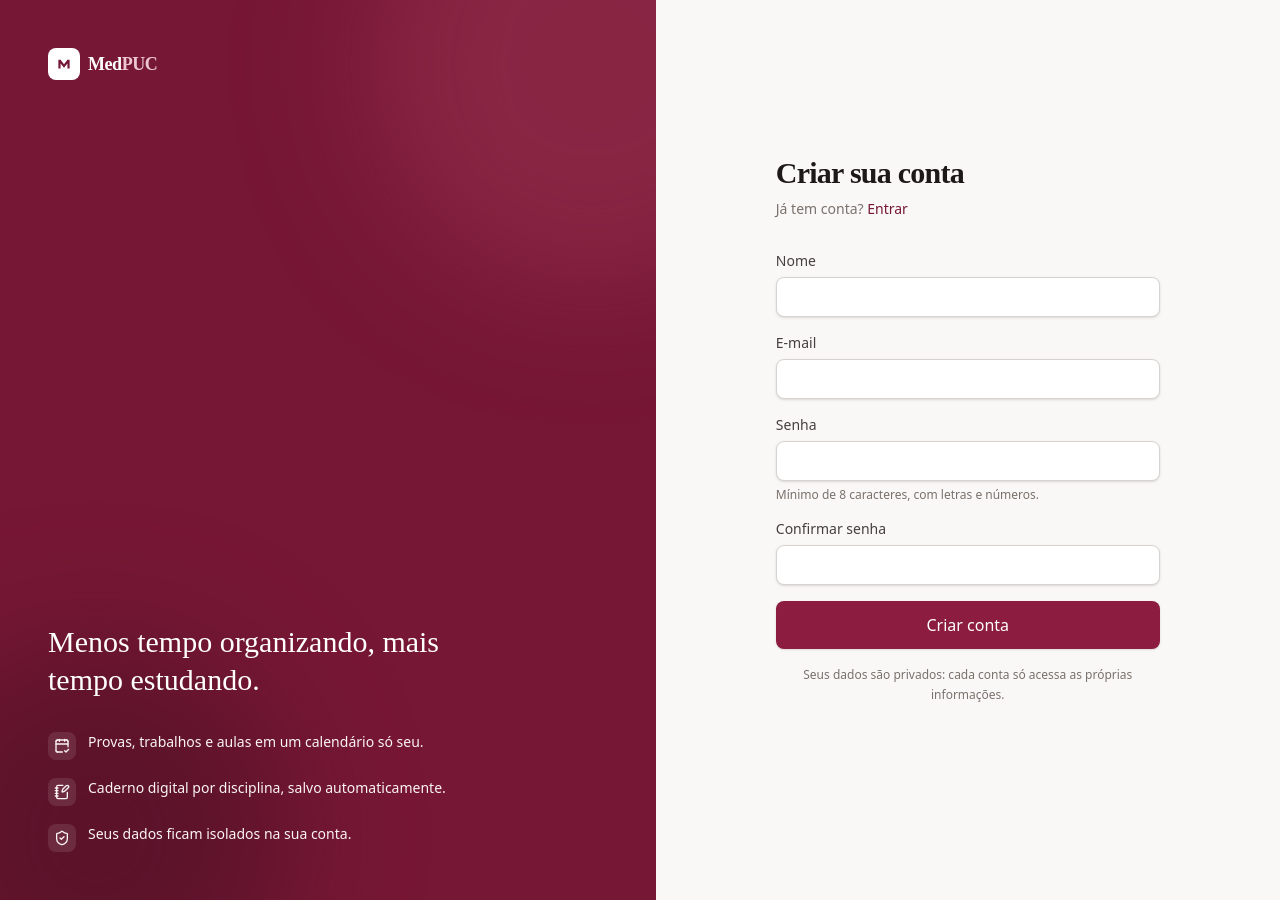
Test: cadastro › valida os campos antes de enviar
Click the button "Criar conta". click: (968, 625)
box: [776, 601, 1160, 649]
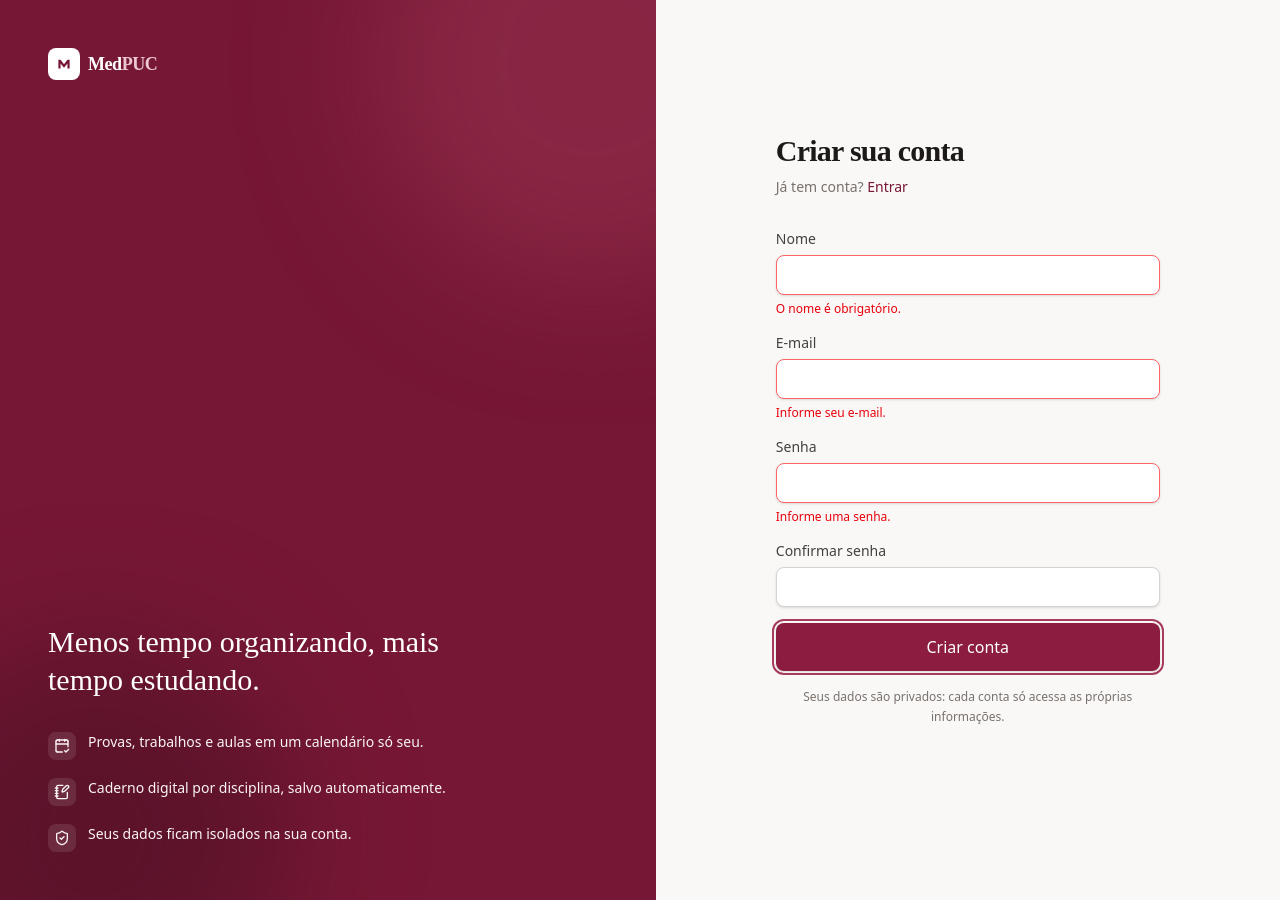
Expected: the text "O nome é obrigatório." is shown, [776, 300, 901, 317]
Expected: the text "Informe seu e-mail." is shown, [776, 404, 886, 421]
Expected: the text "Informe uma senha." is shown, [776, 508, 890, 525]
Type "abc12345" into the password field labelled "Senha". click: (968, 483)
box: [776, 463, 1160, 503]
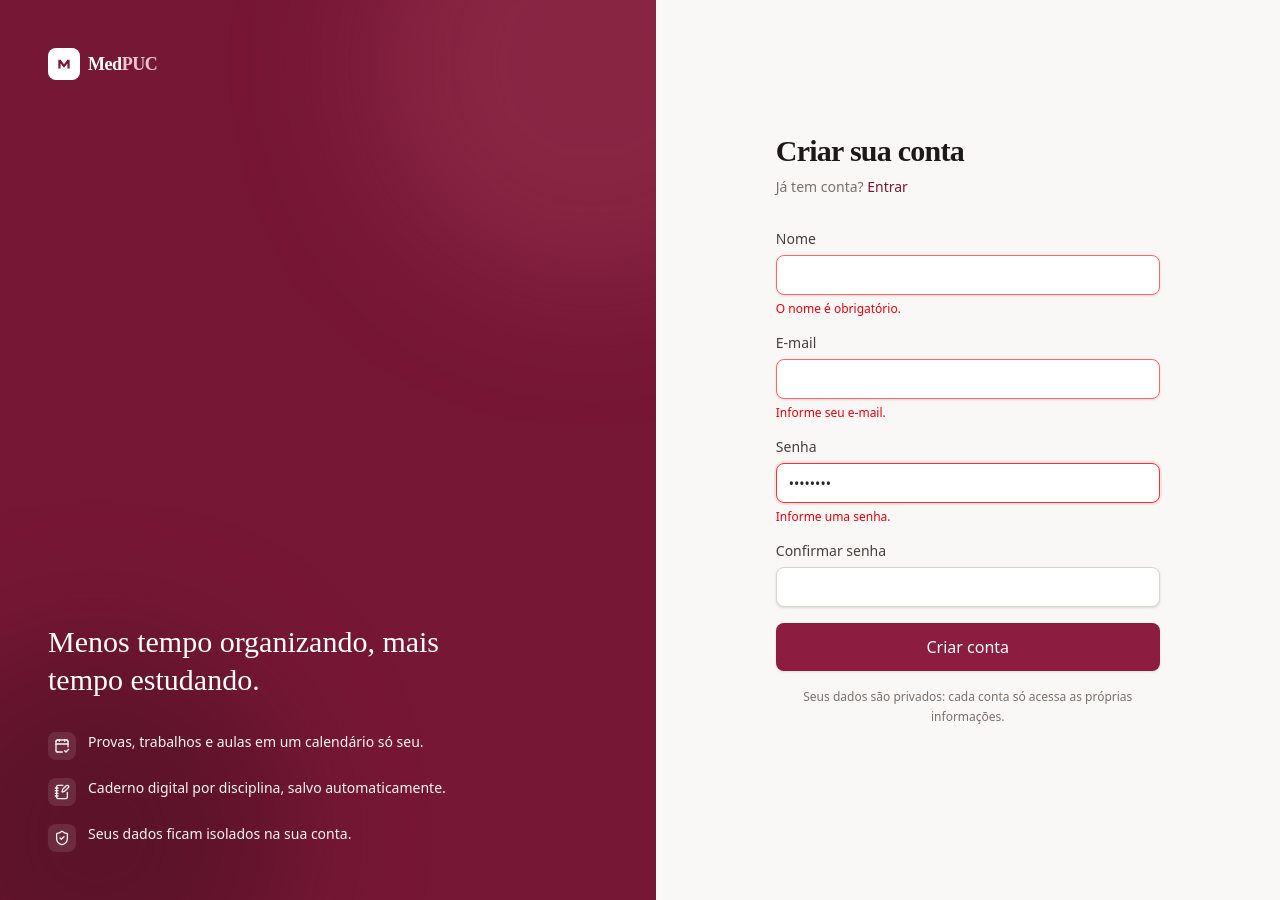
Type "abc12346" into the password field labelled "Confirmar senha". click: (968, 587)
box: [776, 567, 1160, 607]
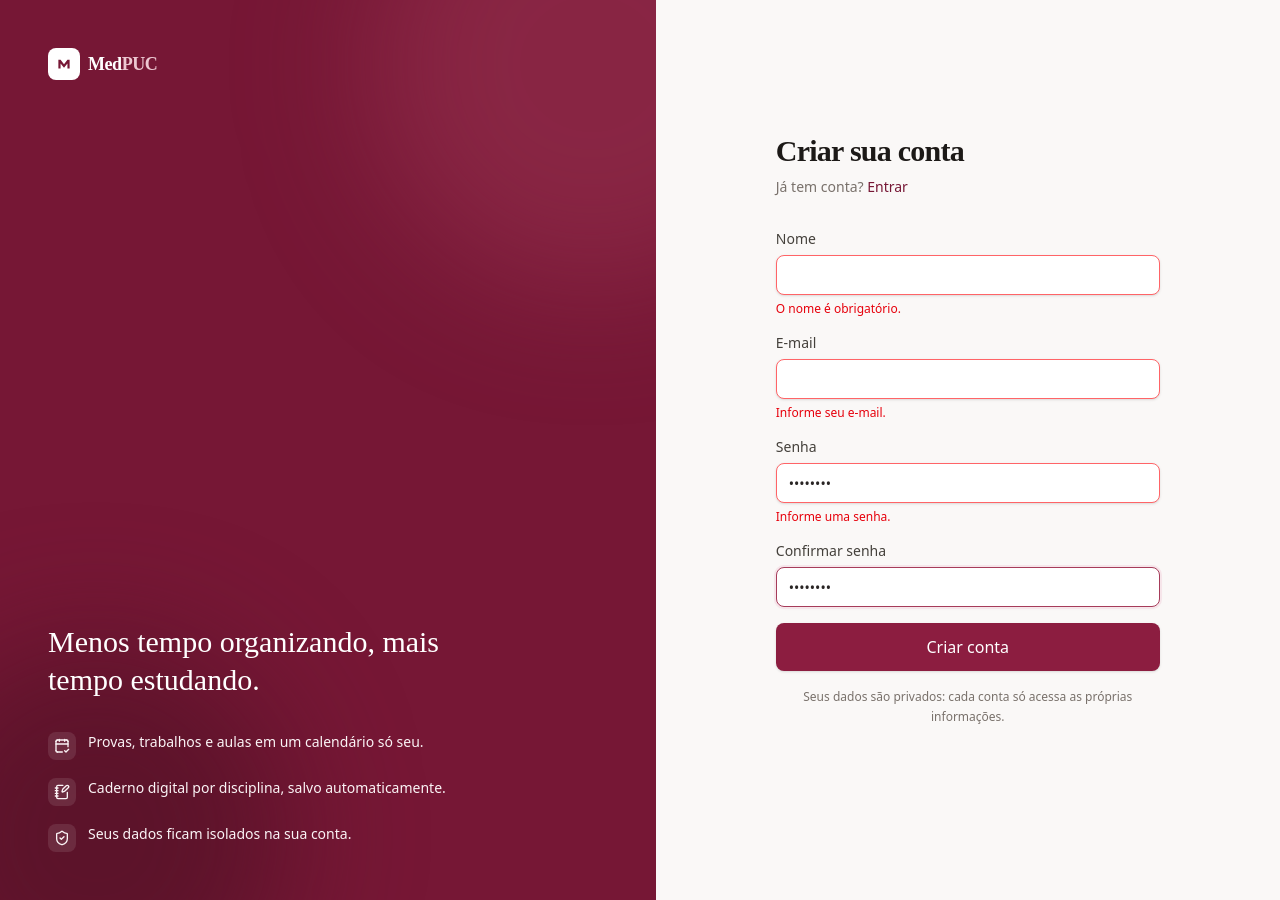
Click the button "Criar conta". click: (968, 647)
box: [776, 623, 1160, 671]
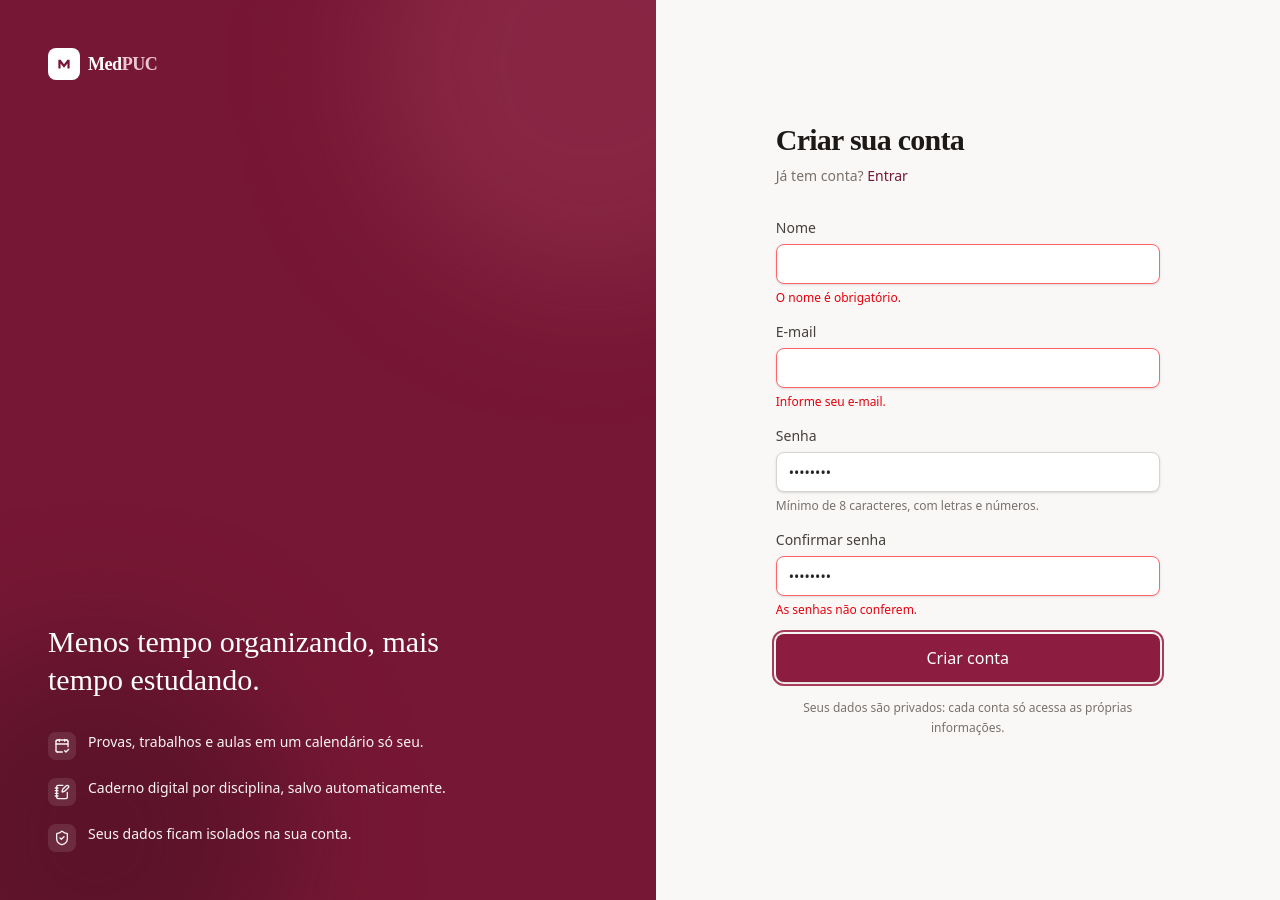
Expected: the text "As senhas não conferem." is shown, [776, 601, 917, 618]
